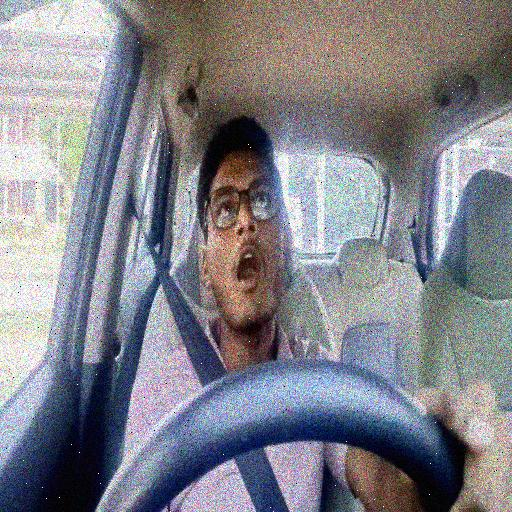yawns: (200, 116, 286, 330)
